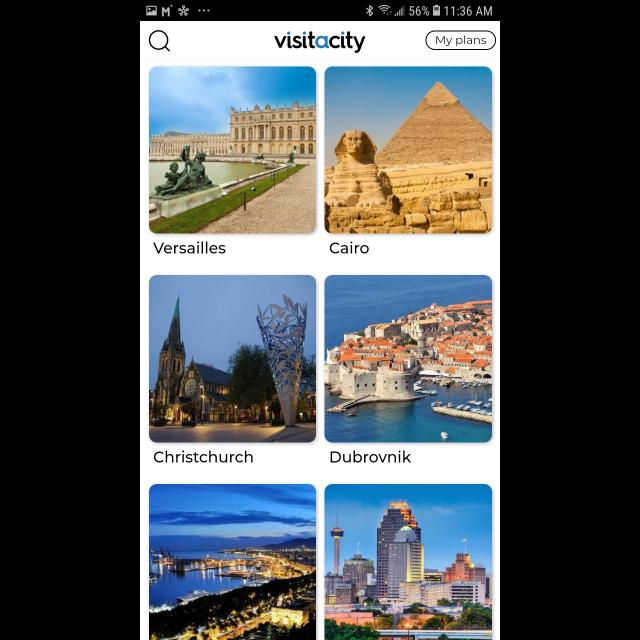icon: (149, 30, 171, 52)
image: (324, 66, 492, 234), (324, 275, 492, 443), (150, 66, 316, 234), (150, 275, 316, 443), (324, 484, 492, 640), (150, 484, 316, 640), (274, 32, 366, 54)
text: (154, 450, 254, 462), (331, 450, 412, 462), (154, 242, 226, 254), (330, 242, 370, 254)
textbutton: (426, 30, 496, 50)
uppertaskbar: (140, 1, 500, 22)
